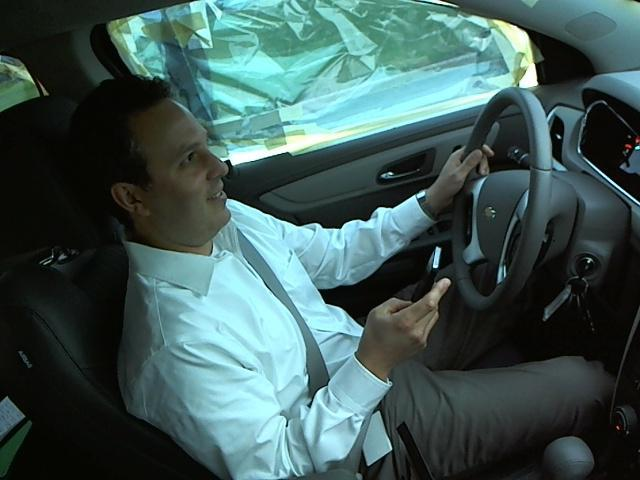PhoneUse: (404, 240, 448, 321)
